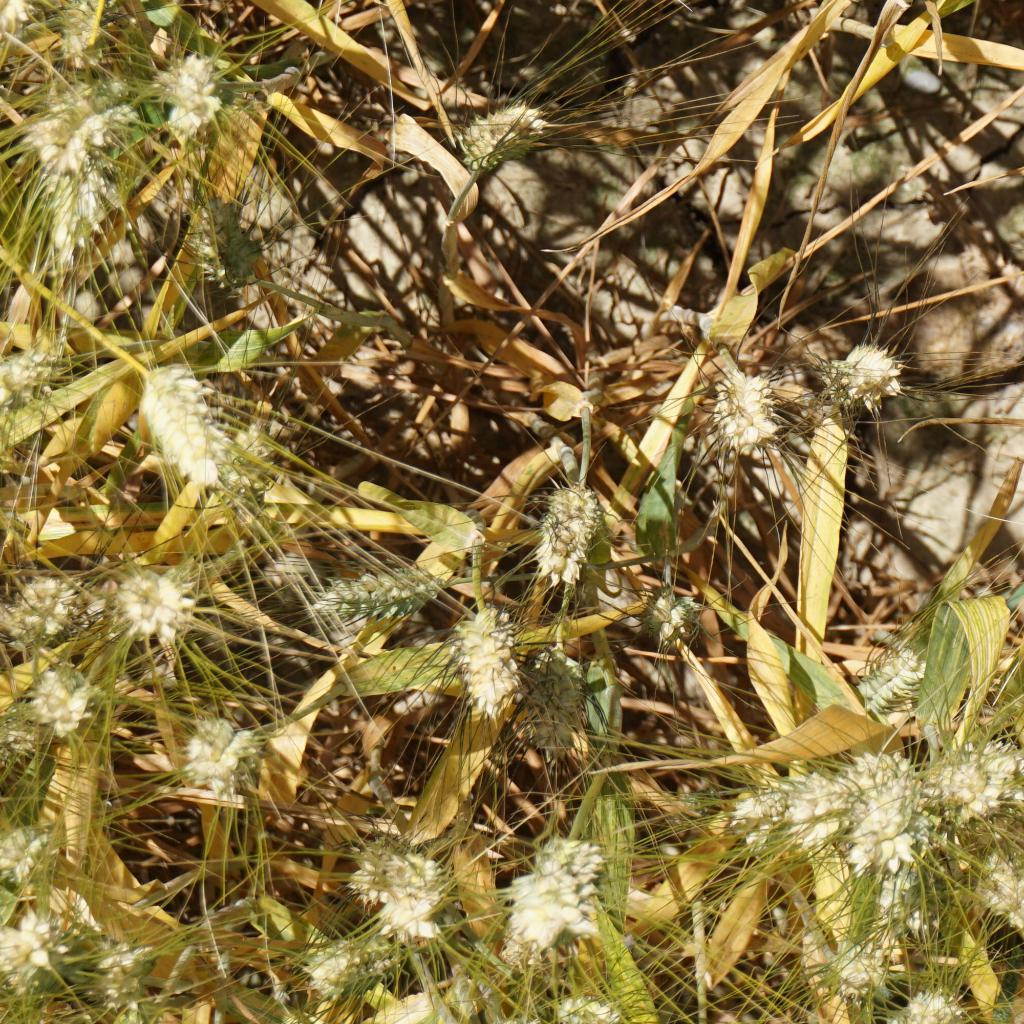0-0: (496, 821, 600, 967), (781, 745, 921, 852), (139, 358, 242, 488), (355, 837, 456, 949), (167, 712, 269, 816), (529, 477, 606, 613), (514, 633, 592, 763), (27, 80, 133, 173), (212, 413, 297, 528), (142, 41, 235, 143), (172, 196, 265, 296), (939, 728, 1024, 831), (84, 912, 165, 1018), (44, 160, 122, 267), (817, 333, 916, 417), (454, 96, 558, 175), (450, 606, 520, 718), (707, 368, 792, 457), (308, 570, 441, 626), (846, 790, 929, 877), (13, 567, 98, 647), (855, 640, 935, 724), (112, 567, 203, 638), (16, 660, 102, 735), (304, 934, 403, 999), (0, 332, 62, 427), (836, 925, 903, 1008), (878, 972, 980, 1024), (0, 824, 73, 891), (1, 904, 61, 985), (641, 581, 710, 651), (451, 953, 519, 1024), (60, 0, 131, 65), (972, 853, 1024, 930), (726, 782, 785, 838), (553, 991, 626, 1024), (0, 0, 39, 39)
